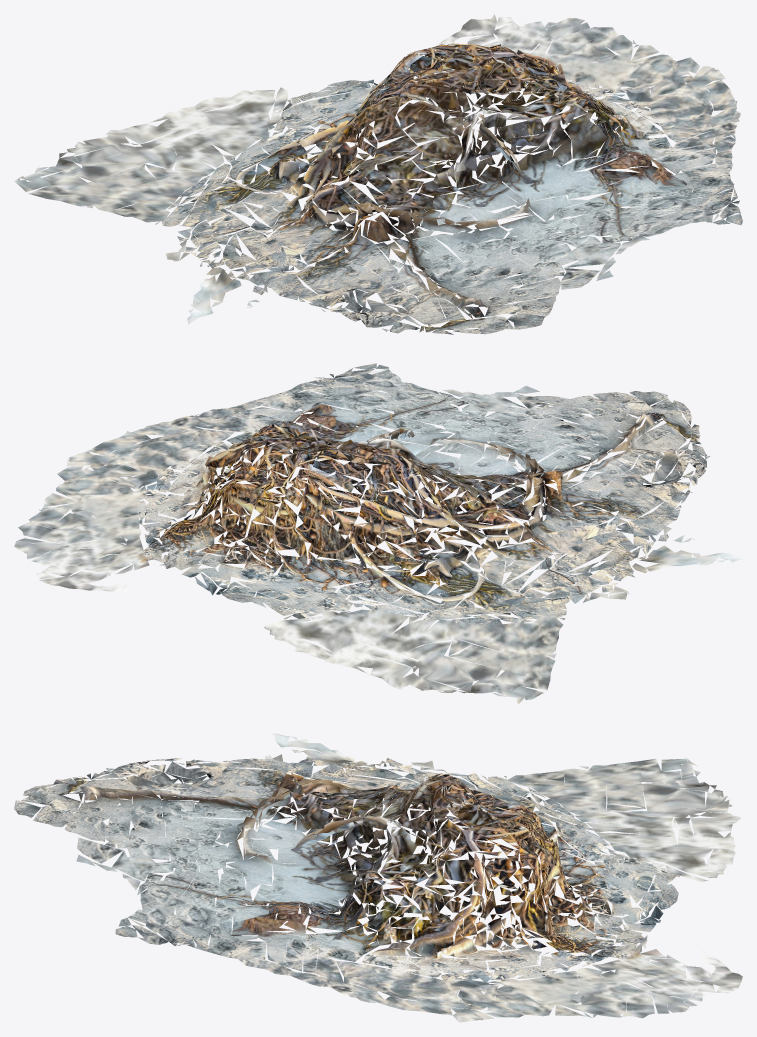
Rendered from kelp_scan.glb.
3 views of the same model, one above another, from view 1: azimuth 30°, elevation 25°; view 2: azimuth 150°, elevation 25°; view 3: azimuth 270°, elevation 25° (orthographic). The views are drawn at different scales.
Visible parts, largest first — view 1: Object_2, Object_3, Object_4; view 2: Object_3, Object_2, Object_4; view 3: Object_2, Object_3, Object_4.
Boxes of the visible parts, x1,y1,x2,y2 form: Object_2: (14, 14, 740, 334); Object_3: (177, 18, 742, 274); Object_4: (407, 53, 677, 324); Object_3: (14, 363, 647, 615); Object_2: (31, 385, 742, 704); Object_4: (159, 392, 686, 520); Object_2: (14, 733, 742, 1002); Object_3: (115, 759, 697, 1022); Object_4: (33, 778, 546, 970).
Size of the model in its own units: 3.53 by 0.6479 by 3.44.
Materials: 1 (1 with a texture image).
